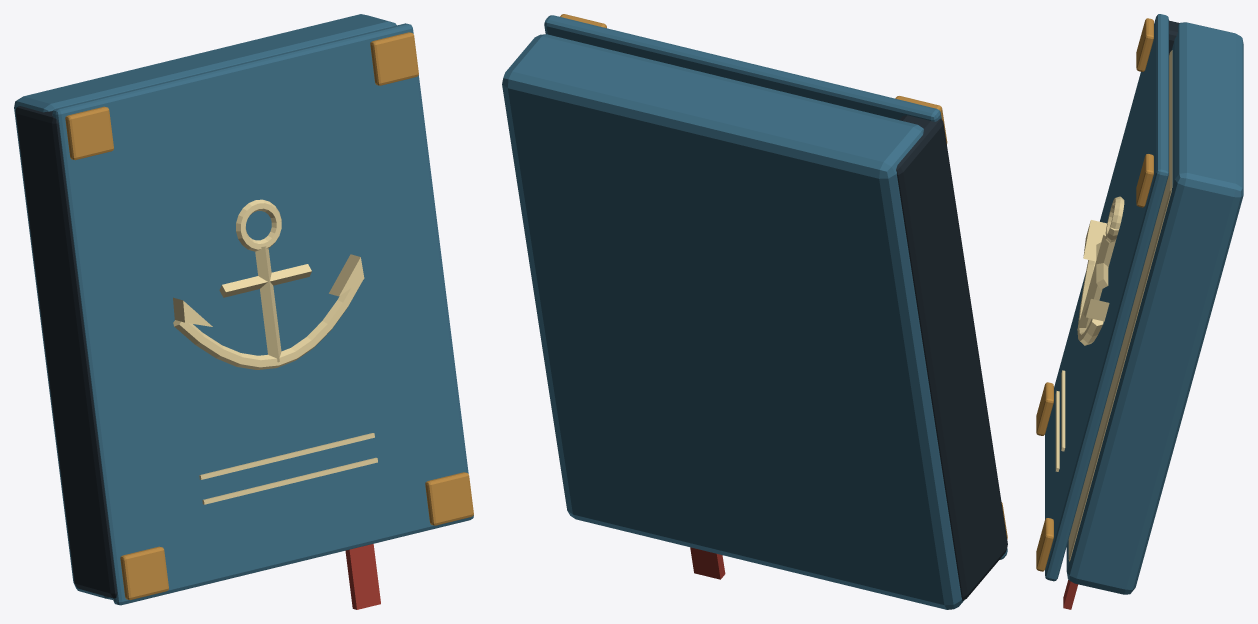
3 views of the same model, side by side, from view 1: azimuth 30°, elevation 25°; view 2: azimuth 150°, elevation 25°; view 3: azimuth 270°, elevation 25° (orthographic). The views are drawn at different scales.
Parts seen in each view (by area): view 1: C3-02_blue, C3-02_ink, C3-02_paper, C3-02_brass, C3-02_red; view 2: C3-02_blue, C3-02_ink, C3-02_red; view 3: C3-02_blue, C3-02_paper, C3-02_brass, C3-02_red.
Boxes of the visible parts, box(x1,y1,x2,y2) form: C3-02_blue: box(14, 14, 473, 605); C3-02_ink: box(15, 106, 117, 598); C3-02_paper: box(173, 199, 377, 504); C3-02_brass: box(65, 32, 473, 600); C3-02_red: box(345, 544, 380, 609); C3-02_blue: box(502, 15, 1007, 609); C3-02_ink: box(896, 115, 1007, 600); C3-02_red: box(690, 547, 725, 579); C3-02_blue: box(1045, 14, 1243, 594); C3-02_paper: box(1055, 50, 1172, 561); C3-02_brass: box(1036, 18, 1153, 571); C3-02_red: box(1063, 580, 1078, 609).
Bounding box in the file's own units: 0.373 × 0.518 × 0.2044.
